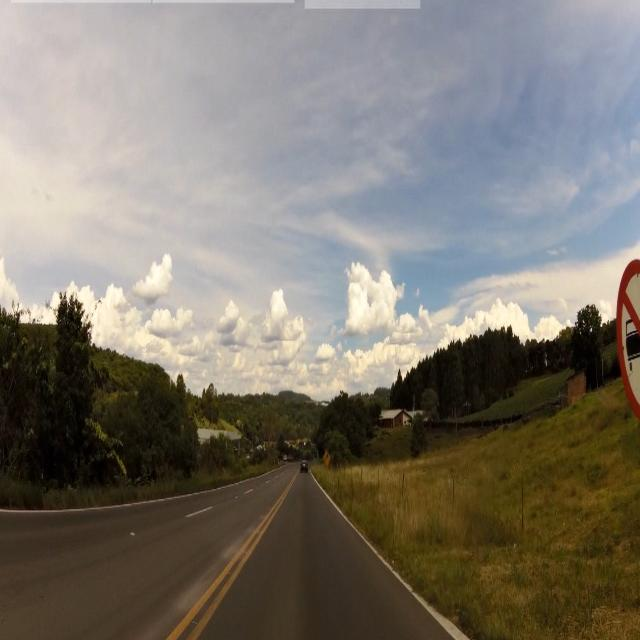R-7: (618, 246, 640, 448)
